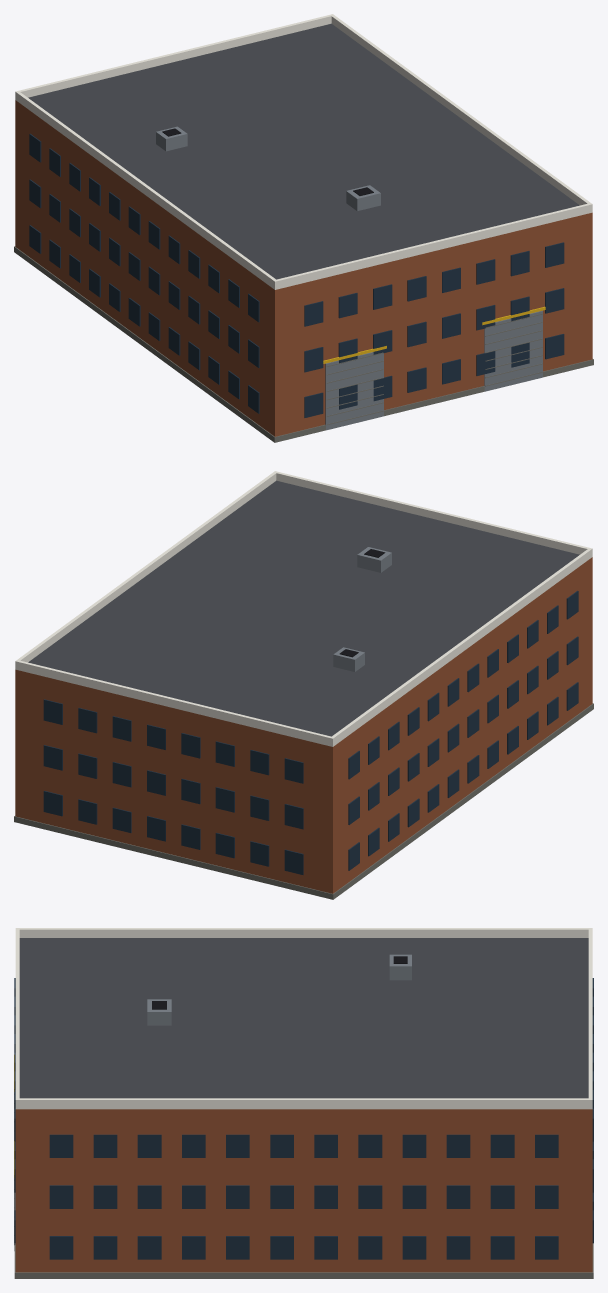
File: warehouse_b.glb
3 renders of one model, top to bottom at view 1: azimuth 30°, elevation 25°; view 2: azimuth 150°, elevation 25°; view 3: azimuth 270°, elevation 25°, orthographic. The views are drawn at different scales.
Parts seen in each view (by area): view 1: warehouse_b_Body; view 2: warehouse_b_Body; view 3: warehouse_b_Body.
Boxes of the visible parts, <box> form: warehouse_b_Body: <box>14,14,593,442</box>; warehouse_b_Body: <box>14,471,593,899</box>; warehouse_b_Body: <box>14,928,593,1278</box>.
Size of the model in its own units: 24.16 by 11.99 by 34.18.
